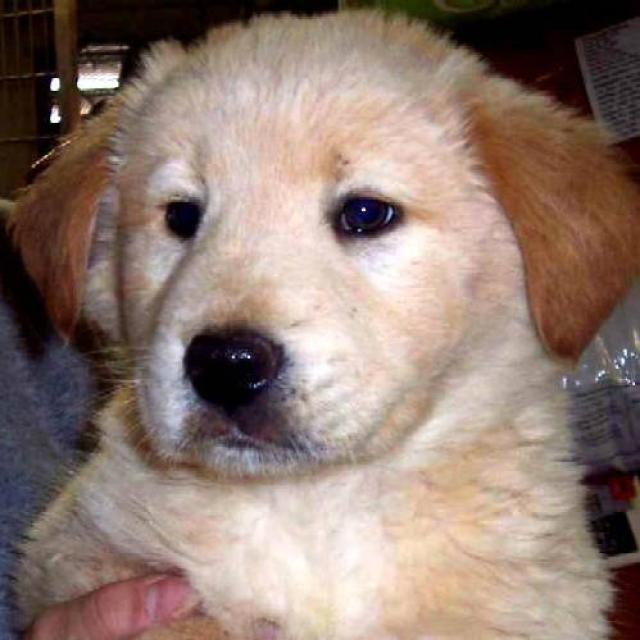dogs: (16, 7, 640, 640)
